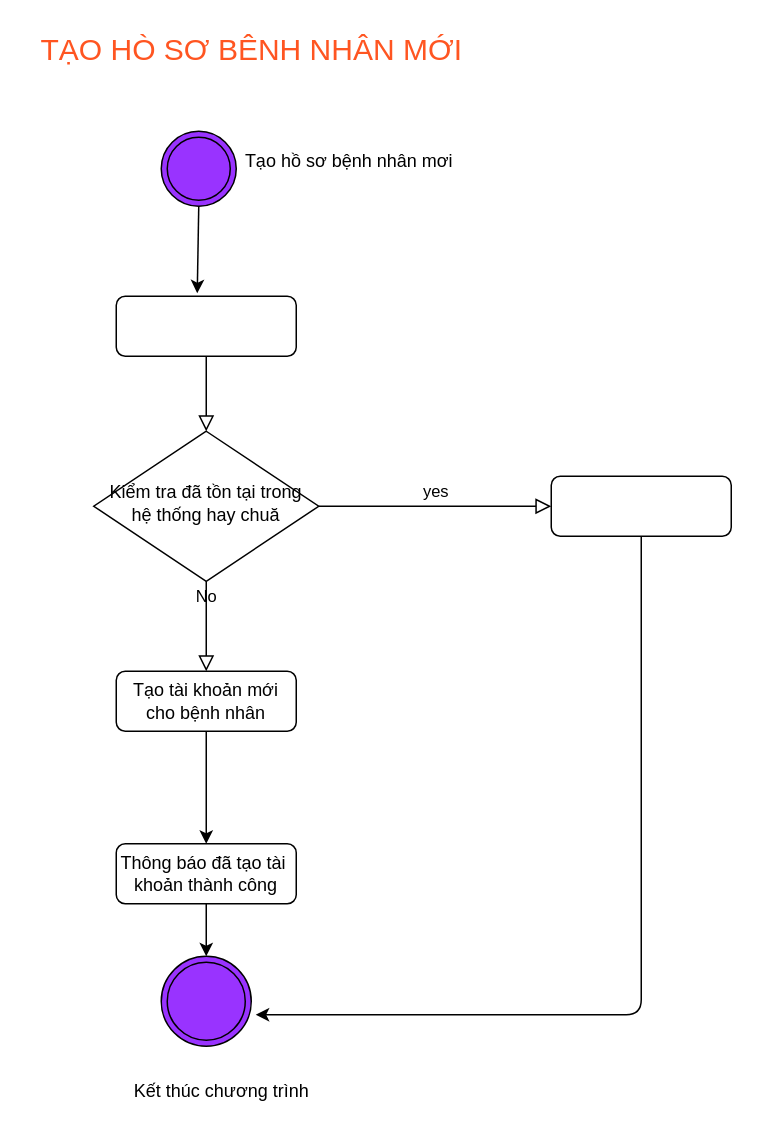
Some shapes in this 758 by 1131 pixel diagram are drawn without their labels. Each missing label, with the centre of its shape:
"Thông báo đã tồn tại trong hệ thống" belongs at [640,505].
"Đăng nhập thông tin bệnh nhân" belongs at [205,325].
